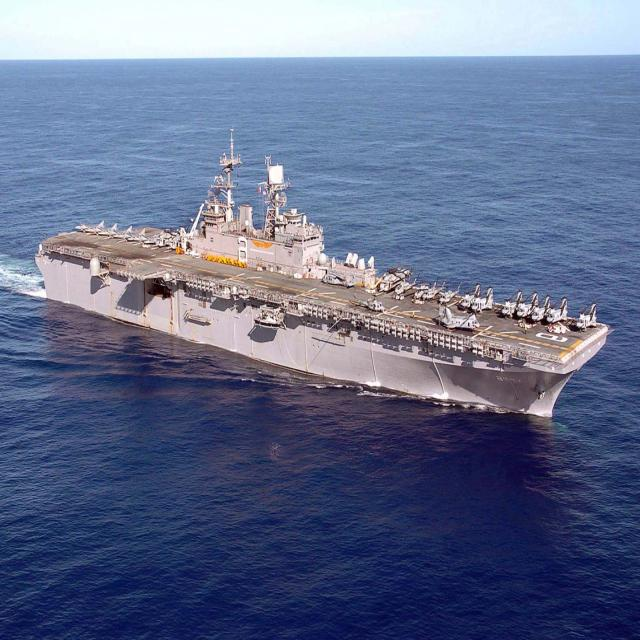navalvessels: (23, 115, 630, 417)
